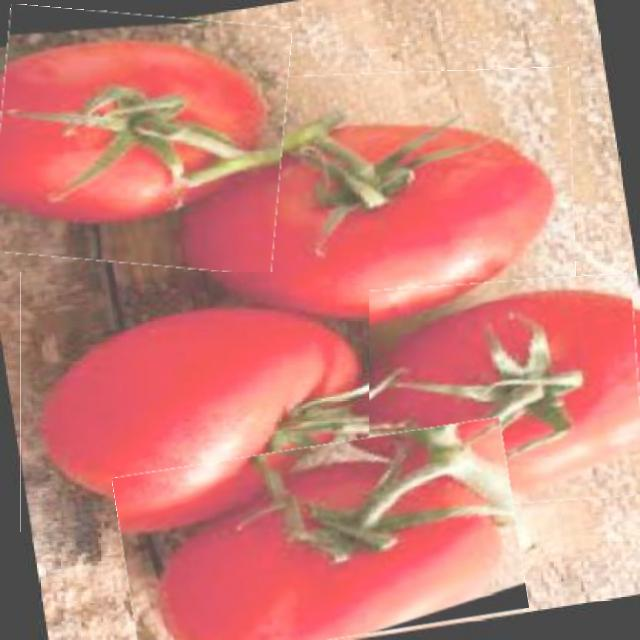tomato: (180, 71, 575, 343), (20, 272, 369, 532), (118, 431, 523, 640), (0, 10, 286, 270), (347, 278, 640, 509)
